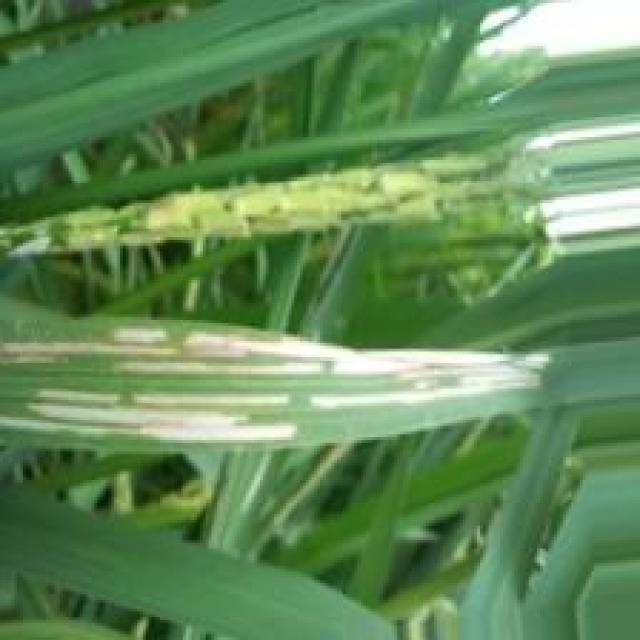Rice_Hispa: (182, 328, 546, 405), (28, 403, 295, 444)
